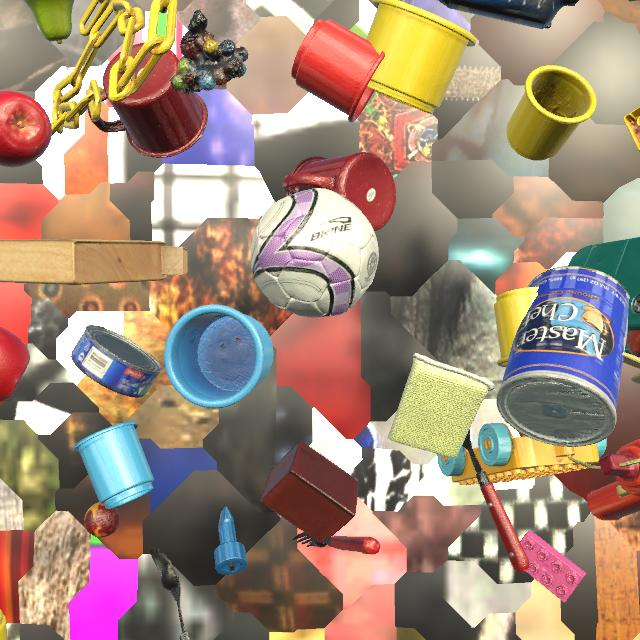ycb_002_master_chef_can: (496, 266, 630, 447)
ycb_007_tuna_fish_can: (71, 325, 162, 398)
ycb_011_banana: (629, 0, 638, 2)
ycb_013_apple: (0, 91, 52, 167), (0, 326, 30, 402)
ycb_016_pear: (24, 0, 74, 44)
